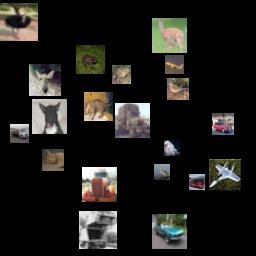airplane: (209, 159, 241, 191), (165, 55, 184, 74)
automobile: (152, 214, 187, 249), (212, 113, 234, 135)
bird: (0, 3, 38, 41), (167, 78, 189, 100), (154, 164, 170, 180), (164, 140, 180, 156)
cat: (84, 92, 113, 121), (42, 149, 64, 171)
deer: (152, 18, 187, 53), (29, 64, 61, 96)
dog: (32, 99, 67, 134)
frog: (76, 45, 105, 74), (112, 65, 131, 84)
truck: (79, 211, 117, 249), (115, 103, 150, 138), (82, 167, 117, 202), (10, 124, 29, 143), (189, 174, 205, 190)
